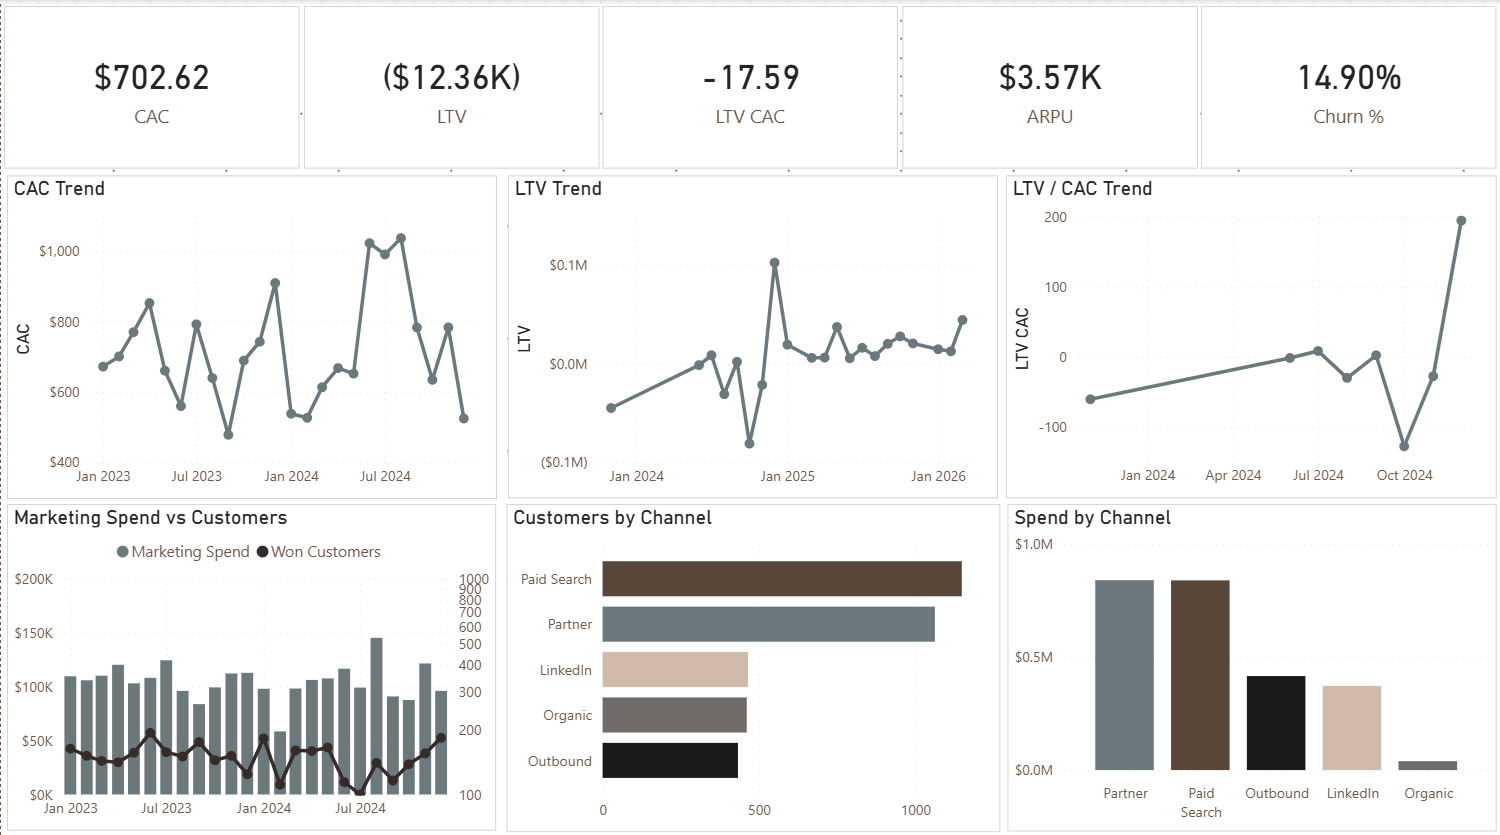

The dashboard page shown, as its layout file describes it:
{"tool":"powerbi","page":{"name":"Unit Economics","canvas":[1280,720],"ordinal":1},"visuals":[{"type":"group","id":"g1","title":"Group 1","box":[2.6,5.4,1274,138.7],"z":0},{"type":"card","fields":{"Values":["_key_metrics.CAC"]},"box":[2.6,5.4,252,138.5],"z":0,"group":"g1"},{"type":"card","fields":{"Values":["_key_metrics.LTV"]},"box":[258.1,5.4,252,138.7],"z":1000,"group":"g1"},{"type":"lineChart","title":"CAC Trend","fields":{"Category":["dim_month.year_month"],"Y":["_key_metrics.CAC"]},"box":[5.1,150,417.8,275.8],"z":1000,"group":"g2"},{"type":"lineClusteredColumnComboChart","title":"Marketing Spend vs Customers","fields":{"Category":["dim_month.year_month"],"Y":["_key_metrics.Marketing Spend"],"Y2":["_key_metrics.Won Customers"]},"box":[4.6,429.7,417.5,278.9],"z":1000,"group":"g3"},{"type":"card","fields":{"Values":["_key_metrics.LTV CAC"]},"box":[513.6,5.4,252,138.7],"z":2000,"group":"g1"},{"type":"group","id":"g2","title":"Group 2","box":[5.1,150,1271,275.8],"z":2000},{"type":"lineChart","title":"LTV Trend","fields":{"Category":["dim_month.year_month"],"Y":["_key_metrics.LTV"]},"box":[432.1,150,417.8,275.7],"z":2000,"group":"g2"},{"type":"card","fields":{"Values":["_key_metrics.ARPU"]},"box":[769.1,5.4,252,138.7],"z":3000,"group":"g1"},{"type":"lineChart","title":"LTV / CAC Trend","fields":{"Category":["dim_month.year_month"],"Y":["_key_metrics.LTV CAC"]},"box":[857.6,150,418.6,275.2],"z":3000,"group":"g2"},{"type":"clusteredBarChart","title":"Customers by Channel","fields":{"Category":["fact_sales_marketing.channel"],"Y":["_key_metrics.Won Customers"]},"box":[431.4,430.1,421.1,280.3],"z":3000,"group":"g3"},{"type":"card","fields":{"Values":["_key_metrics.Churn %"]},"box":[1024.6,5.4,252,138.7],"z":4000,"group":"g1"},{"type":"clusteredColumnChart","title":"Spend by Channel","fields":{"Category":["fact_sales_marketing.channel"],"Y":["_key_metrics.Marketing Spend"]},"box":[858.4,429.7,417.3,279],"z":4000,"group":"g3"},{"type":"group","id":"g3","title":"Group 3","box":[4.6,429.7,1271,280.7],"z":4001}]}

Visuals, with their boxes in screenshot pixels (x1, y1, x2, y2), scaled from the page's 1280x720 canvas onto the 1500x835 screenshot:
"Group 1" group: select_region(3, 6, 1496, 167)
card - _key_metrics.CAC: select_region(3, 6, 298, 167)
card - _key_metrics.LTV: select_region(302, 6, 598, 167)
"CAC Trend" lineChart: select_region(6, 174, 496, 494)
"Marketing Spend vs Customers" lineClusteredColumnComboChart: select_region(5, 498, 495, 822)
card - _key_metrics.LTV CAC: select_region(602, 6, 897, 167)
"Group 2" group: select_region(6, 174, 1495, 494)
"LTV Trend" lineChart: select_region(506, 174, 996, 494)
card - _key_metrics.ARPU: select_region(901, 6, 1197, 167)
"LTV / CAC Trend" lineChart: select_region(1005, 174, 1496, 493)
"Customers by Channel" clusteredBarChart: select_region(506, 499, 999, 824)
card - _key_metrics.Churn %: select_region(1201, 6, 1496, 167)
"Spend by Channel" clusteredColumnChart: select_region(1006, 498, 1495, 822)
"Group 3" group: select_region(5, 498, 1495, 824)
